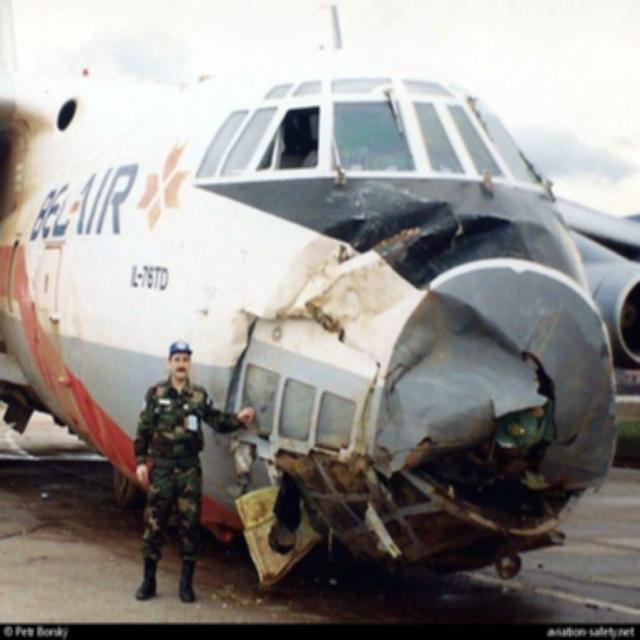dent: (351, 201, 513, 254)
